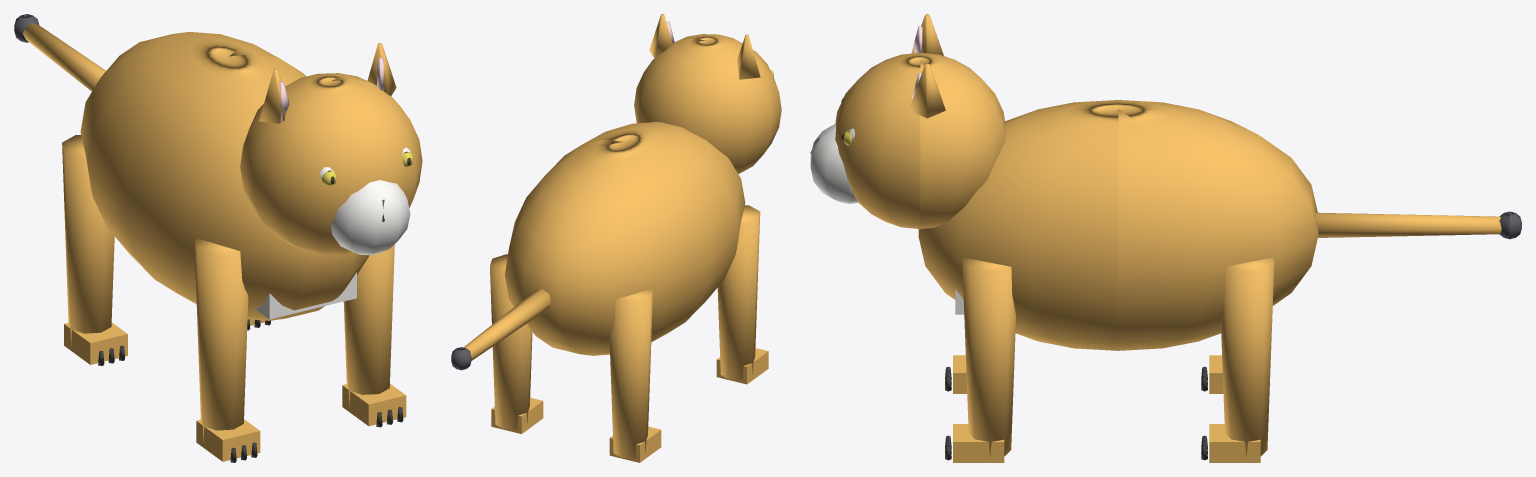
File: 6f1cbcf9-6042-4148-be60-8a3c0a004c09.glb
The picture shows the model from 3 angles, left to right: view 1: azimuth 30°, elevation 25°; view 2: azimuth 150°, elevation 25°; view 3: azimuth 270°, elevation 25°; orthographic projection. The views are drawn at different scales.
Visible parts, largest first — view 1: Generated3DMesh; view 2: Generated3DMesh; view 3: Generated3DMesh.
Boxes of the visible parts, x1=… form: Generated3DMesh: x1=14, y1=14, x2=422, y2=462; Generated3DMesh: x1=451, y1=14, x2=781, y2=462; Generated3DMesh: x1=810, y1=14, x2=1521, y2=462.
Bounding box in the file's own units: 1.01 × 1.8 × 3.06.
